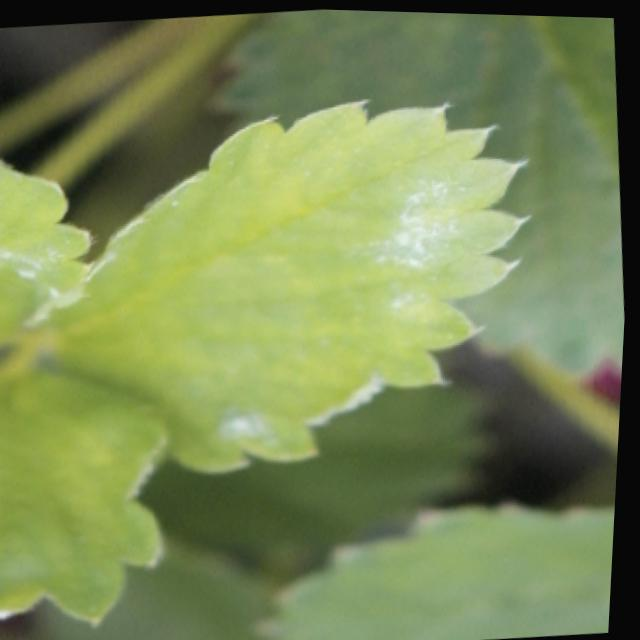Powdery Mildew Leaf: (0, 97, 534, 473), (0, 360, 175, 628), (0, 158, 95, 348)
